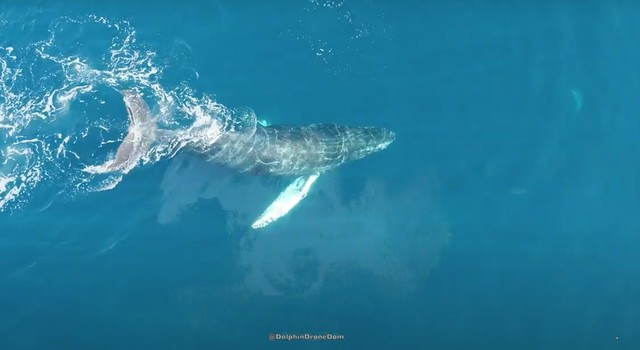whale: (99, 80, 403, 236)
